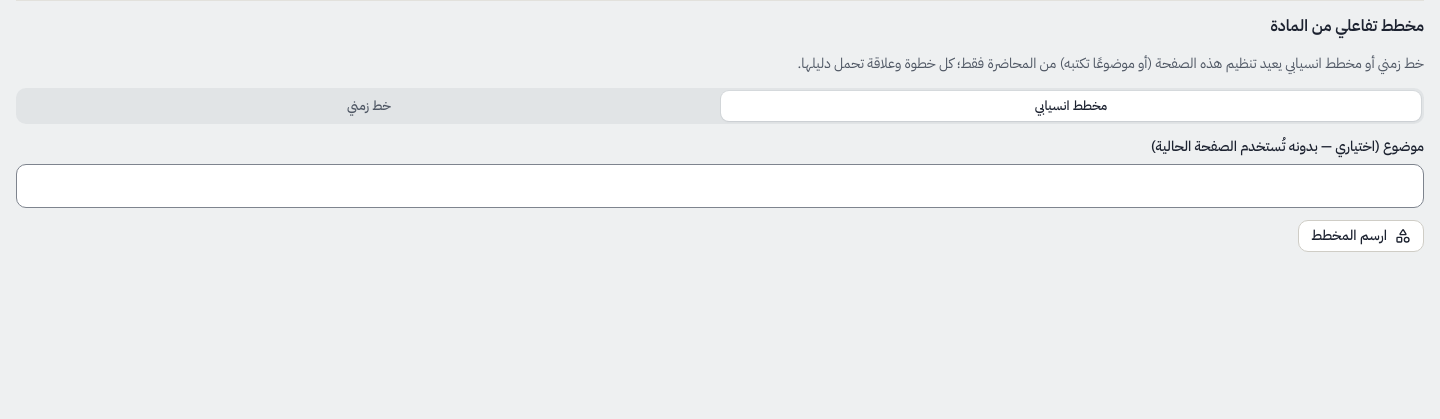
Test: DiagramPanel (rail) › draws for the current page and shows an abstention with its reason
Click the button "ارسم المخطط": (1361, 236) [1298,220,1424,252]
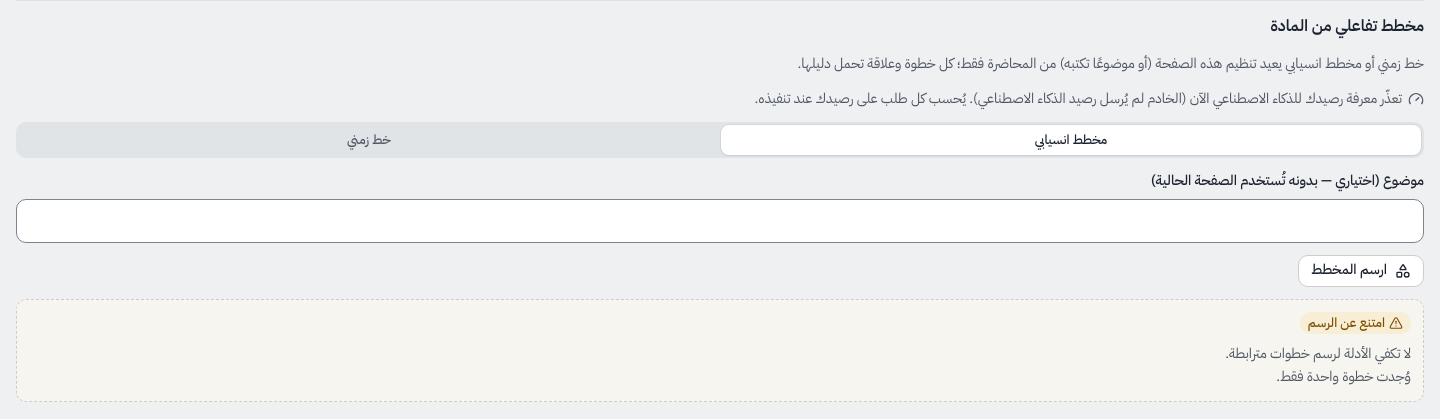
Check: the text "لا تكفي الأدلة لرسم خطوات مترابطة." is shown, box [1225,343,1411,364]
Check: the text "امتنع عن الرسم" is shown, box [1308,313,1385,333]
